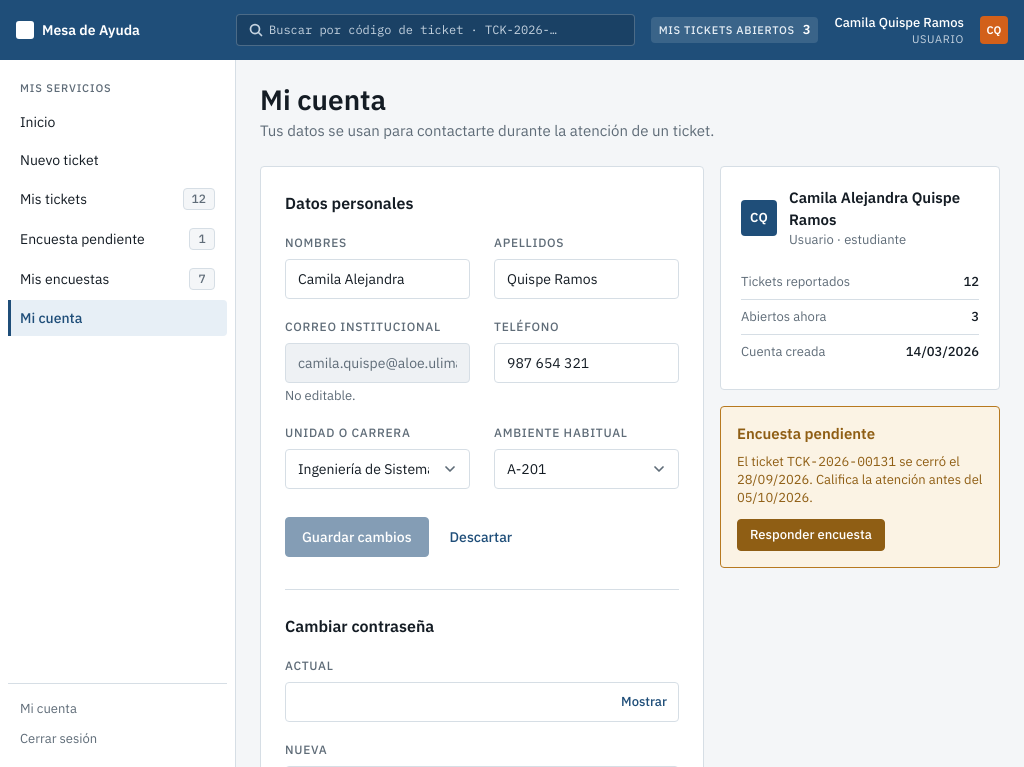
Test: AccountPage · edición › muestra junto al campo el error que devuelve el servicio y lo enfoca
Expected: the form named "Datos personales" is shown, [285,235,679,557]
Expected: the text "Mis tickets abiertos" is shown, [659,22,795,38]
Select "H-210" in the dropdown labelled "Ambiente habitual" at (586, 469), box [494,449,679,489]
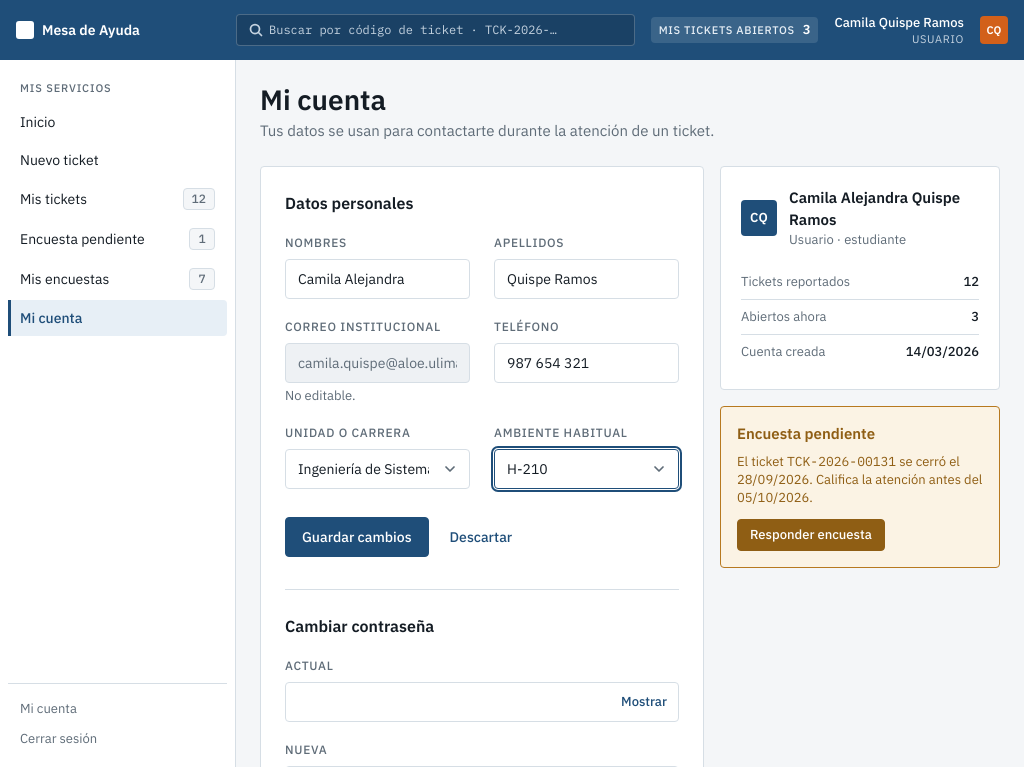
Click the button "Guardar cambios" at (357, 537), box [285,517,429,557]
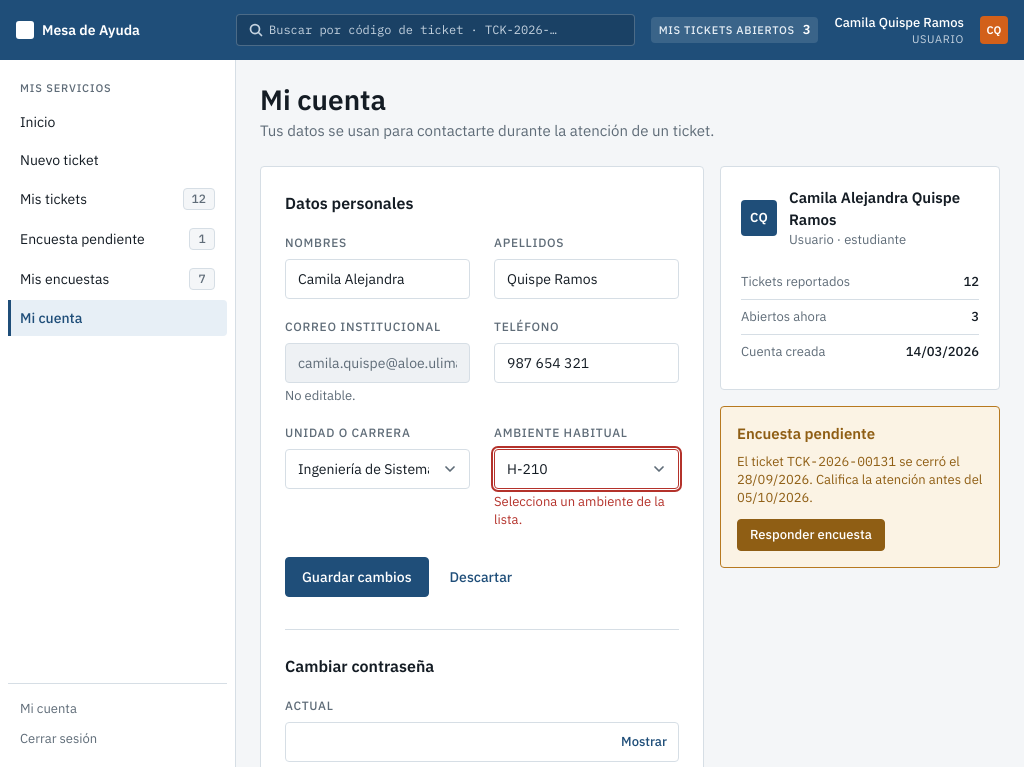
Expected: the text "Selecciona un ambiente de la lista." is shown, [494,493,679,529]
